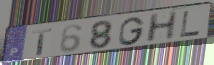6: (59, 23, 84, 54)
8: (88, 19, 114, 51)
G: (117, 16, 146, 46)
H: (144, 10, 180, 45)
L: (179, 10, 202, 38)
T: (32, 27, 54, 57)
